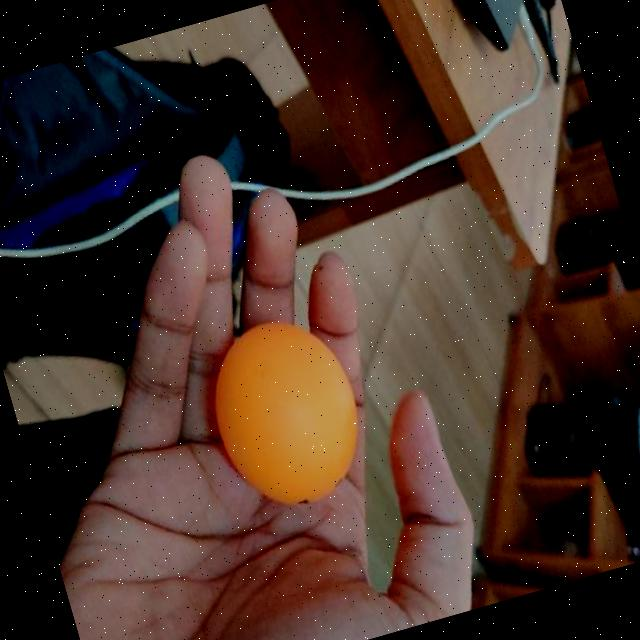ping-pong-ball: (195, 308, 379, 524)
